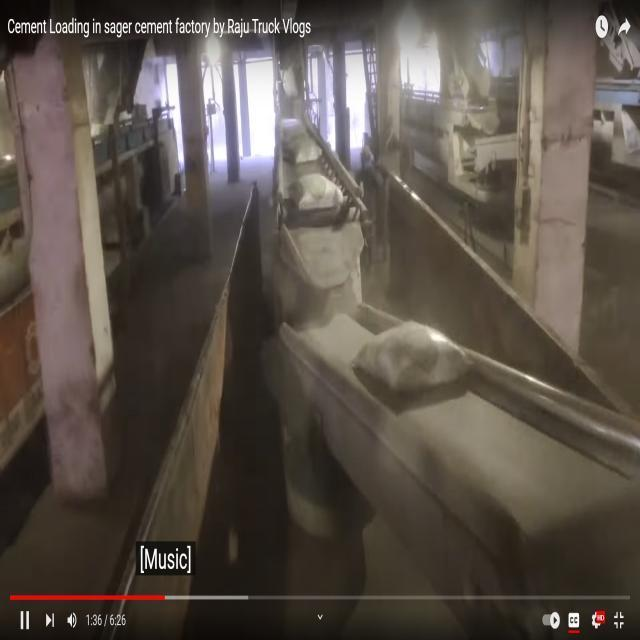gunny_bag: (353, 321, 469, 392), (288, 172, 344, 210), (283, 134, 322, 163)
